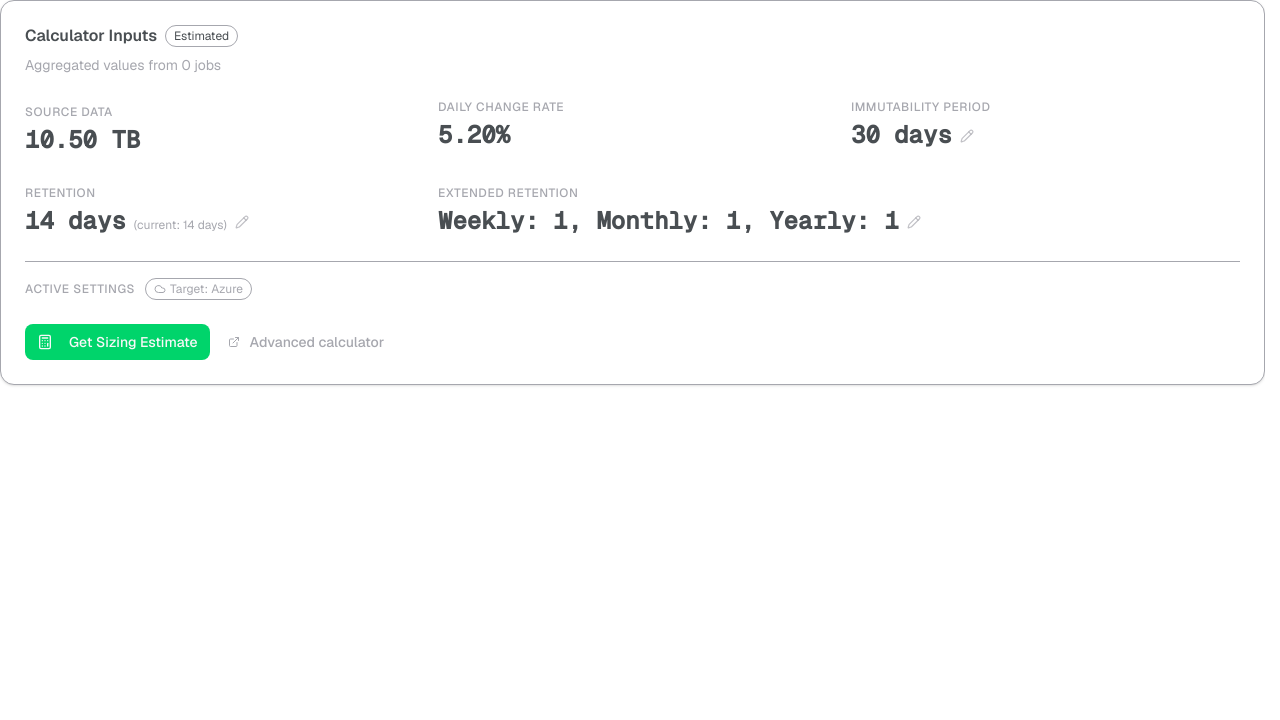
Scenario: CalculatorInputs › controlled consent behavior (new prop interface) › opens consent dialog when hasConsented is false and button is clicked
Click the button "Get Sizing Estimate": (117, 342) [25, 324, 210, 360]
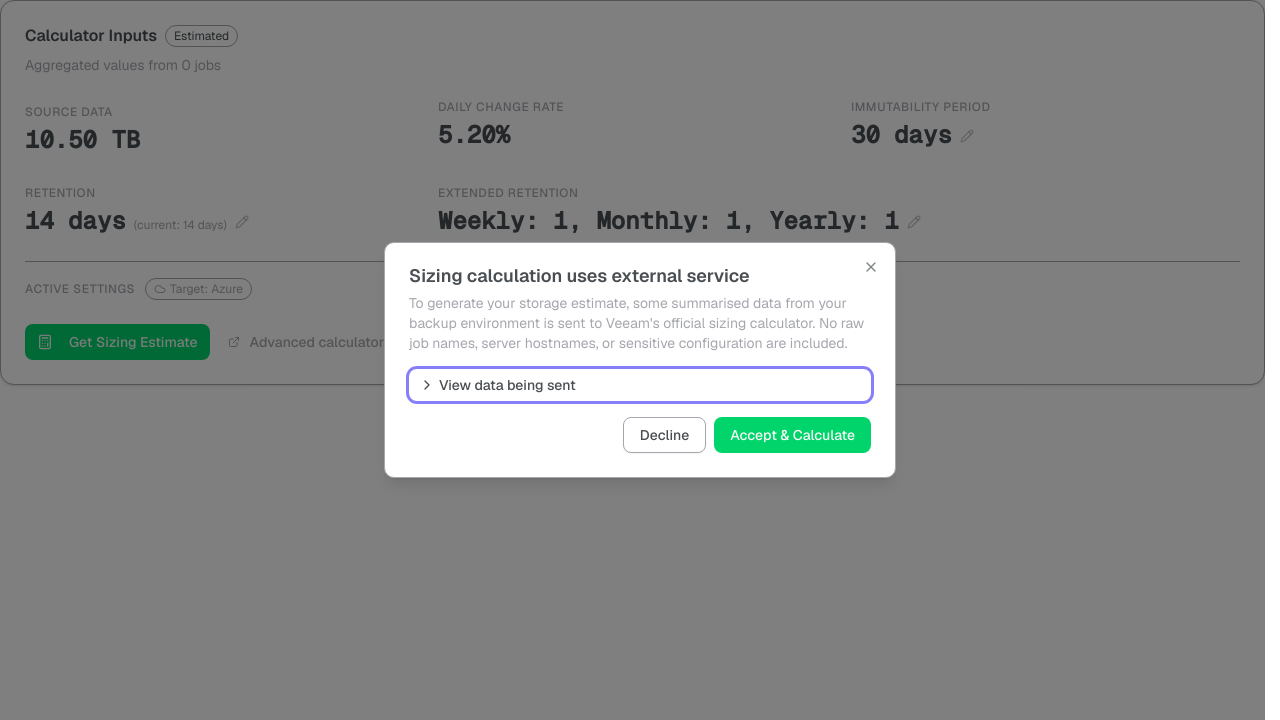
Check: the dialog is shown, box [384, 242, 896, 478]
